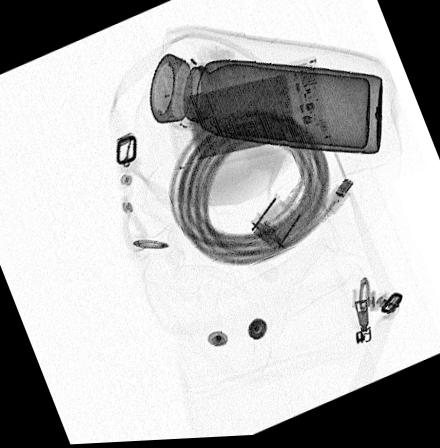Powerbank: (160, 58, 335, 172)
